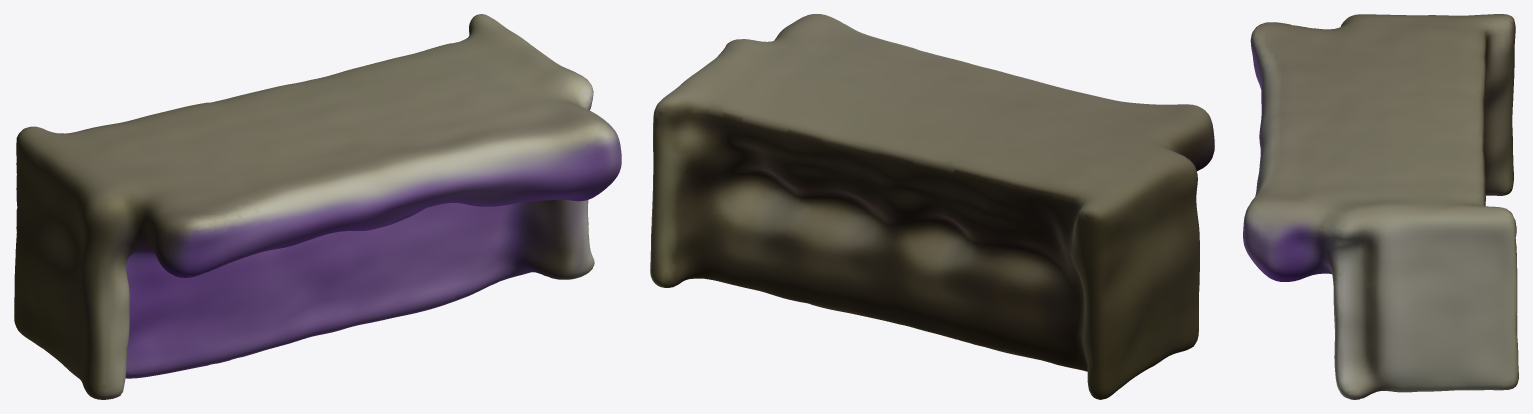
File: sofa.glb
The picture shows the model from 3 angles, left to right: view 1: azimuth 30°, elevation 25°; view 2: azimuth 150°, elevation 25°; view 3: azimuth 270°, elevation 25°; orthographic projection. The views are drawn at different scales.
Bounding box in the file's own units: 0.9993 × 0.4338 × 0.5224.
